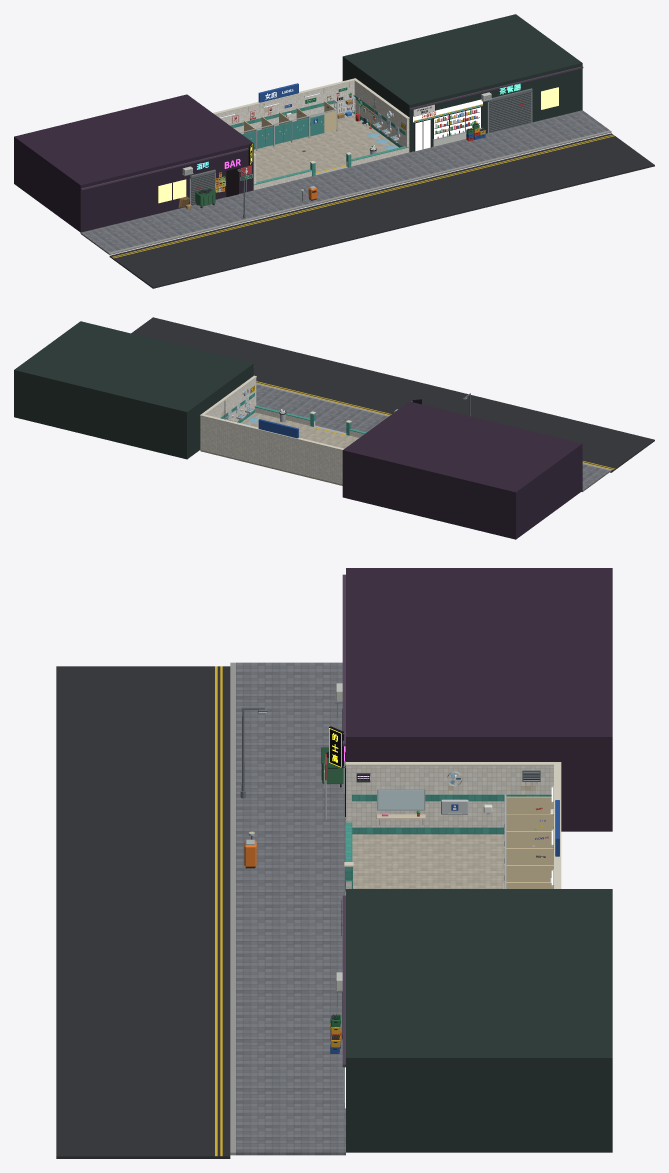
File: level_womens.glb
The picture shows the model from 3 angles, top to bottom: view 1: azimuth 30°, elevation 25°; view 2: azimuth 150°, elevation 25°; view 3: azimuth 270°, elevation 25°; orthographic projection. The views are drawn at different scales.
Parts seen in each view (by area): view 1: neighbours, street, walls, floor, decor, stall_partitions, signage, supply; view 2: neighbours, street, walls, floor, signage; view 3: street, neighbours, walls, floor, stall_partitions, decor.
Boxes of the visible parts, x1,y1,x2,y2 form: neighbours: (14,14,583,232); street: (80,110,654,288); walls: (213,78,409,190); floor: (253,116,398,182); decor: (195,92,405,218); stall_partitions: (240,101,337,150); signage: (240,83,298,197); supply: (334,87,355,119); neighbours: (14,321,583,539); street: (131,317,654,491); walls: (200,375,366,484); floor: (200,412,358,485); signage: (258,419,298,438); street: (56,662,345,1158); neighbours: (329,568,612,1152); walls: (344,761,561,891); floor: (352,834,504,888); stall_partitions: (503,794,553,888); decor: (240,707,553,895).
Size of the model in its own units: 40 by 3.92 by 19.2.
Materials: 104 (5 with a texture image).
